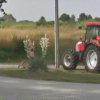Tractor: (60, 12, 100, 81)
